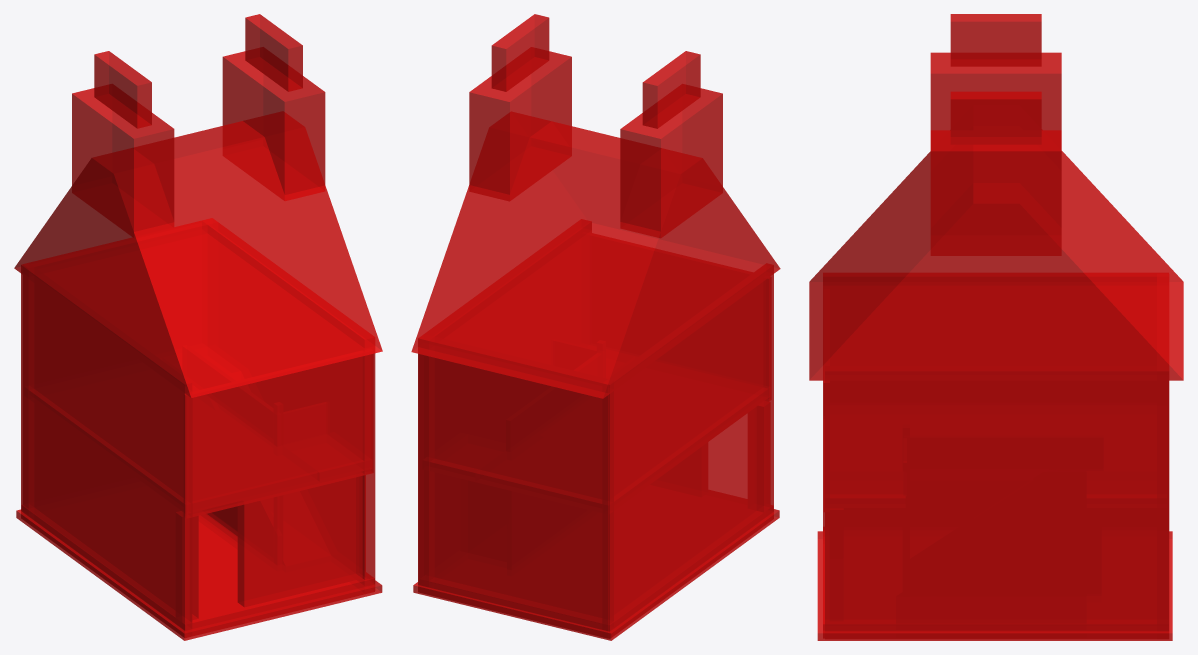
File: SM_Bld_City_Preset_09_Collision.fbx
3 views of the same model, side by side, from view 1: azimuth 30°, elevation 25°; view 2: azimuth 150°, elevation 25°; view 3: azimuth 270°, elevation 25° (orthographic). The views are drawn at different scales.
Visible parts, largest first — view 1: SM_Bld_City_Preset_09_Collision; view 2: SM_Bld_City_Preset_09_Collision; view 3: SM_Bld_City_Preset_09_Collision.
Part boxes in pixels (<box>): SM_Bld_City_Preset_09_Collision: <box>14,14,382,640</box>; SM_Bld_City_Preset_09_Collision: <box>411,14,780,640</box>; SM_Bld_City_Preset_09_Collision: <box>809,14,1183,640</box>.
Size of the model in its own units: 526 by 1284 by 817.
